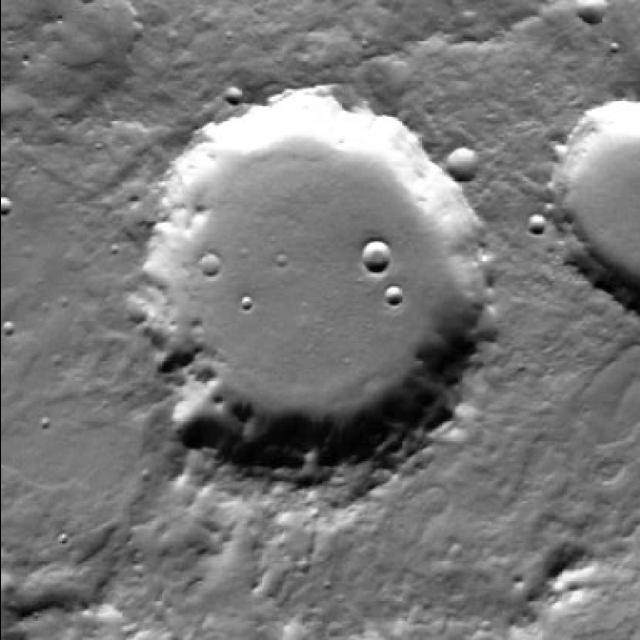crater: (133, 85, 485, 468), (540, 104, 640, 308), (446, 143, 480, 180), (358, 240, 389, 272), (524, 214, 544, 237), (198, 253, 218, 275), (385, 284, 403, 304), (222, 85, 240, 104)
